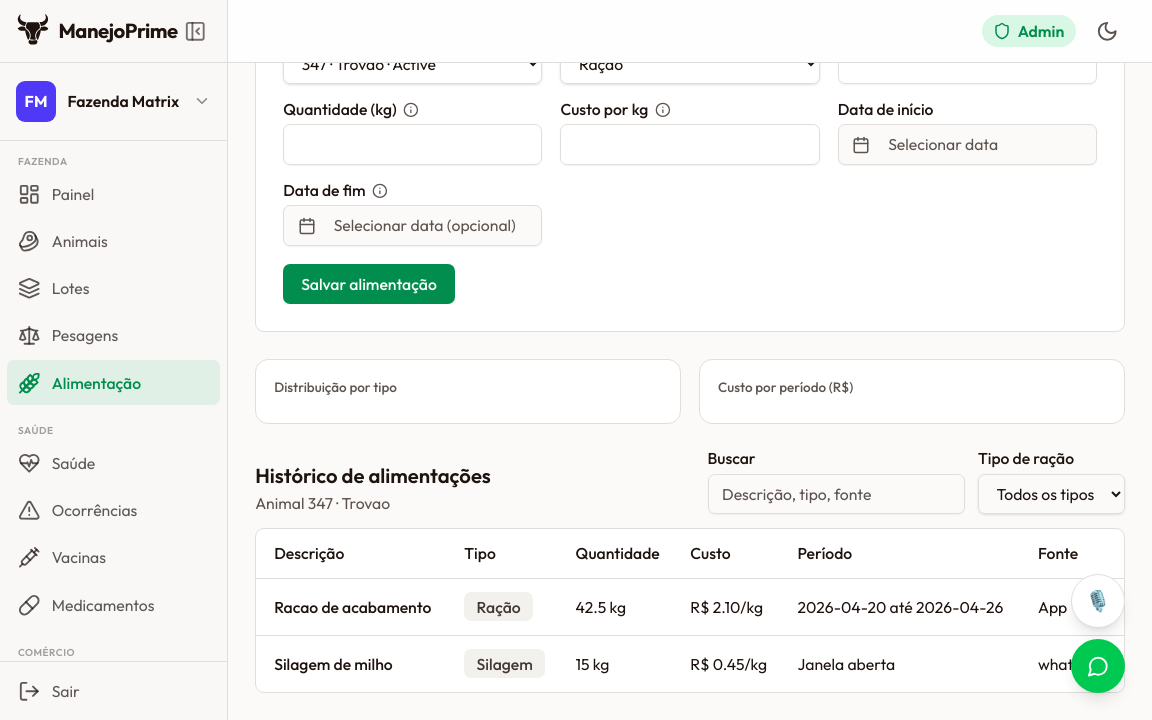
feeding page migration › filters feeding rows by search text and feed type
(page scrolled)
Expected: the text "Racao de acabamento" is shown, x1=256 y1=578 x2=451 y2=636
Expected: the text "Silagem de milho" is shown, x1=256 y1=636 x2=451 y2=692
In the field named "Buscar alimentações": (836, 494) x1=708 y1=474 x2=964 y2=514, type "silagem"
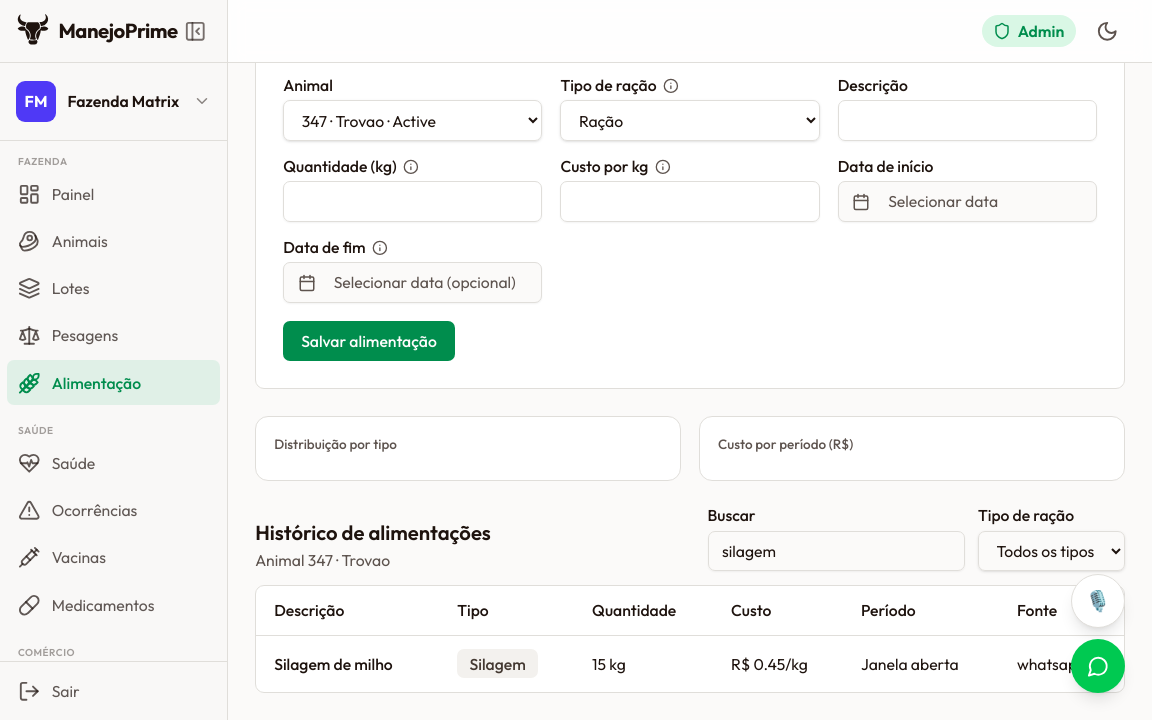
Expected: the text "Silagem de milho" is shown, x1=256 y1=636 x2=444 y2=692
Expected: the text "Racao de acabamento" is gone
Clear the field named "Buscar alimentações": (836, 551) x1=708 y1=531 x2=964 y2=572
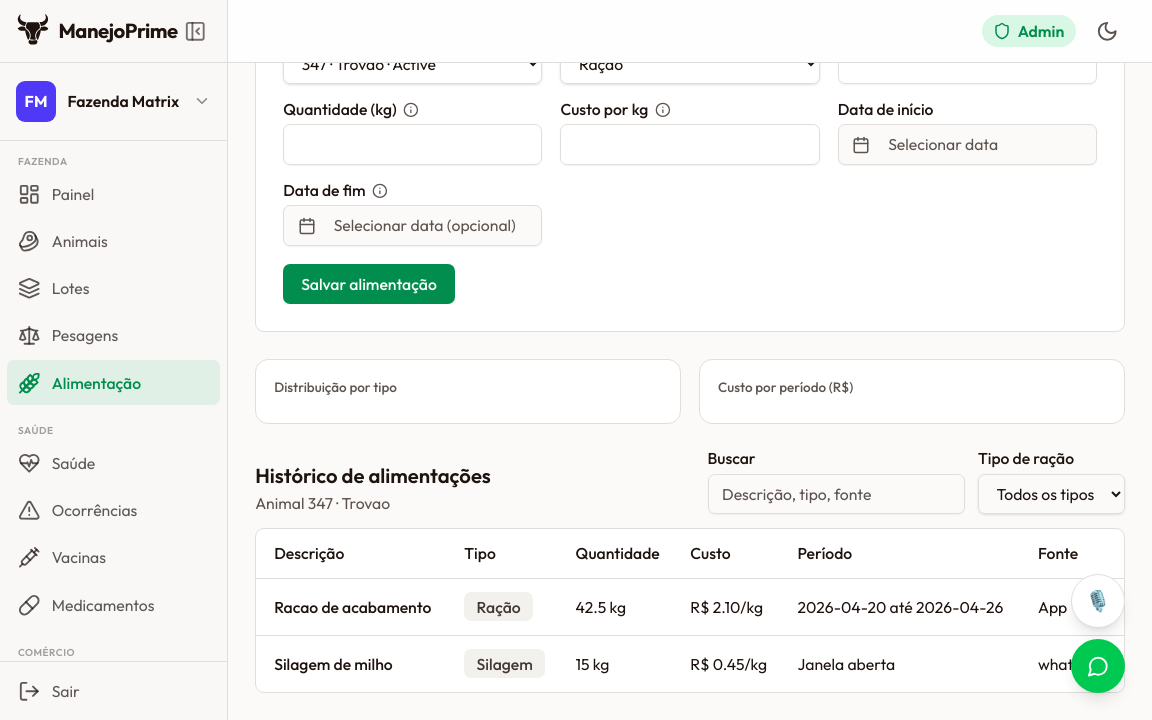
Select "Ração" in the dropdown named "Feed type filter": (1052, 494) x1=978 y1=474 x2=1125 y2=514
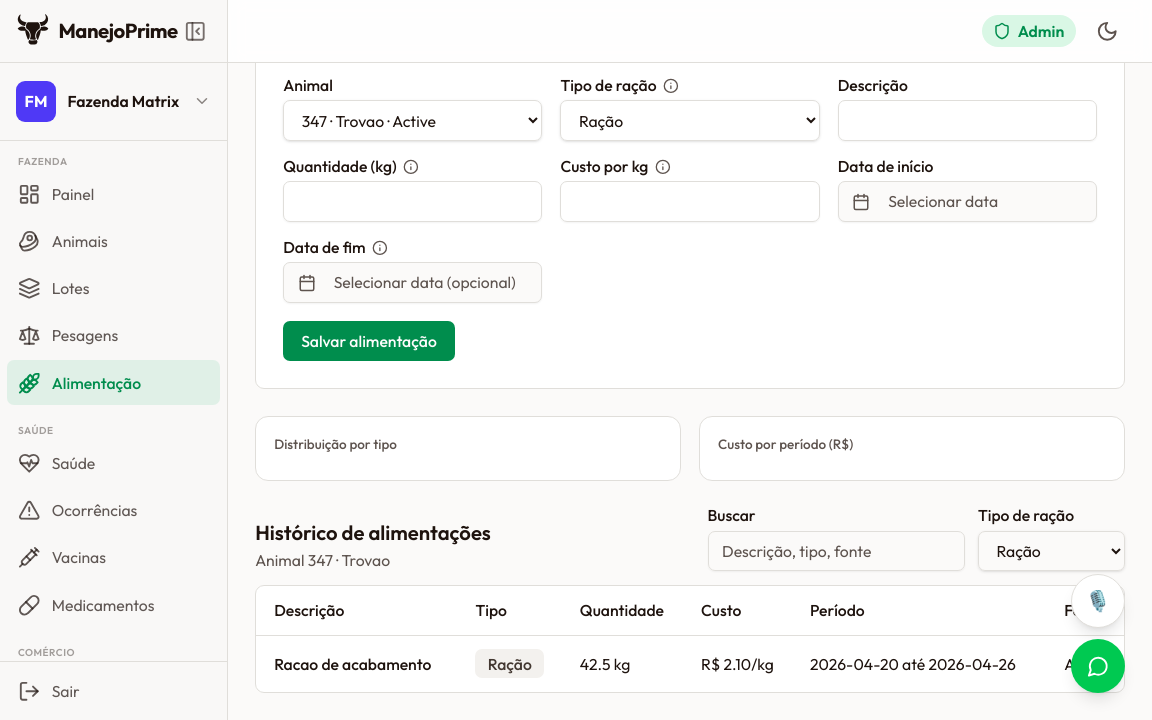
Expected: the text "Racao de acabamento" is shown, x1=256 y1=636 x2=462 y2=692
Expected: the text "Silagem de milho" is gone
